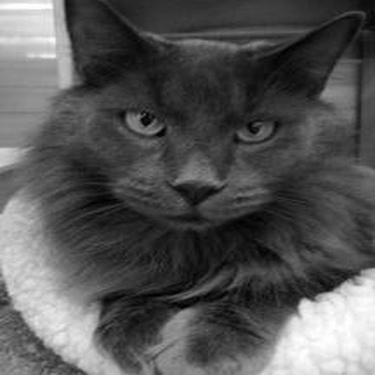cat: (3, 3, 364, 366)
